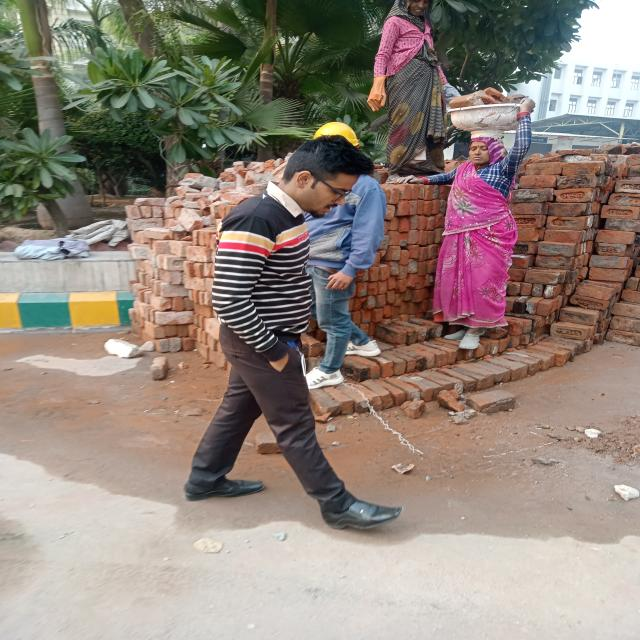no jacket: (311, 122, 386, 381)
unsafe: (187, 133, 402, 527), (425, 130, 512, 350), (368, 0, 449, 177)
